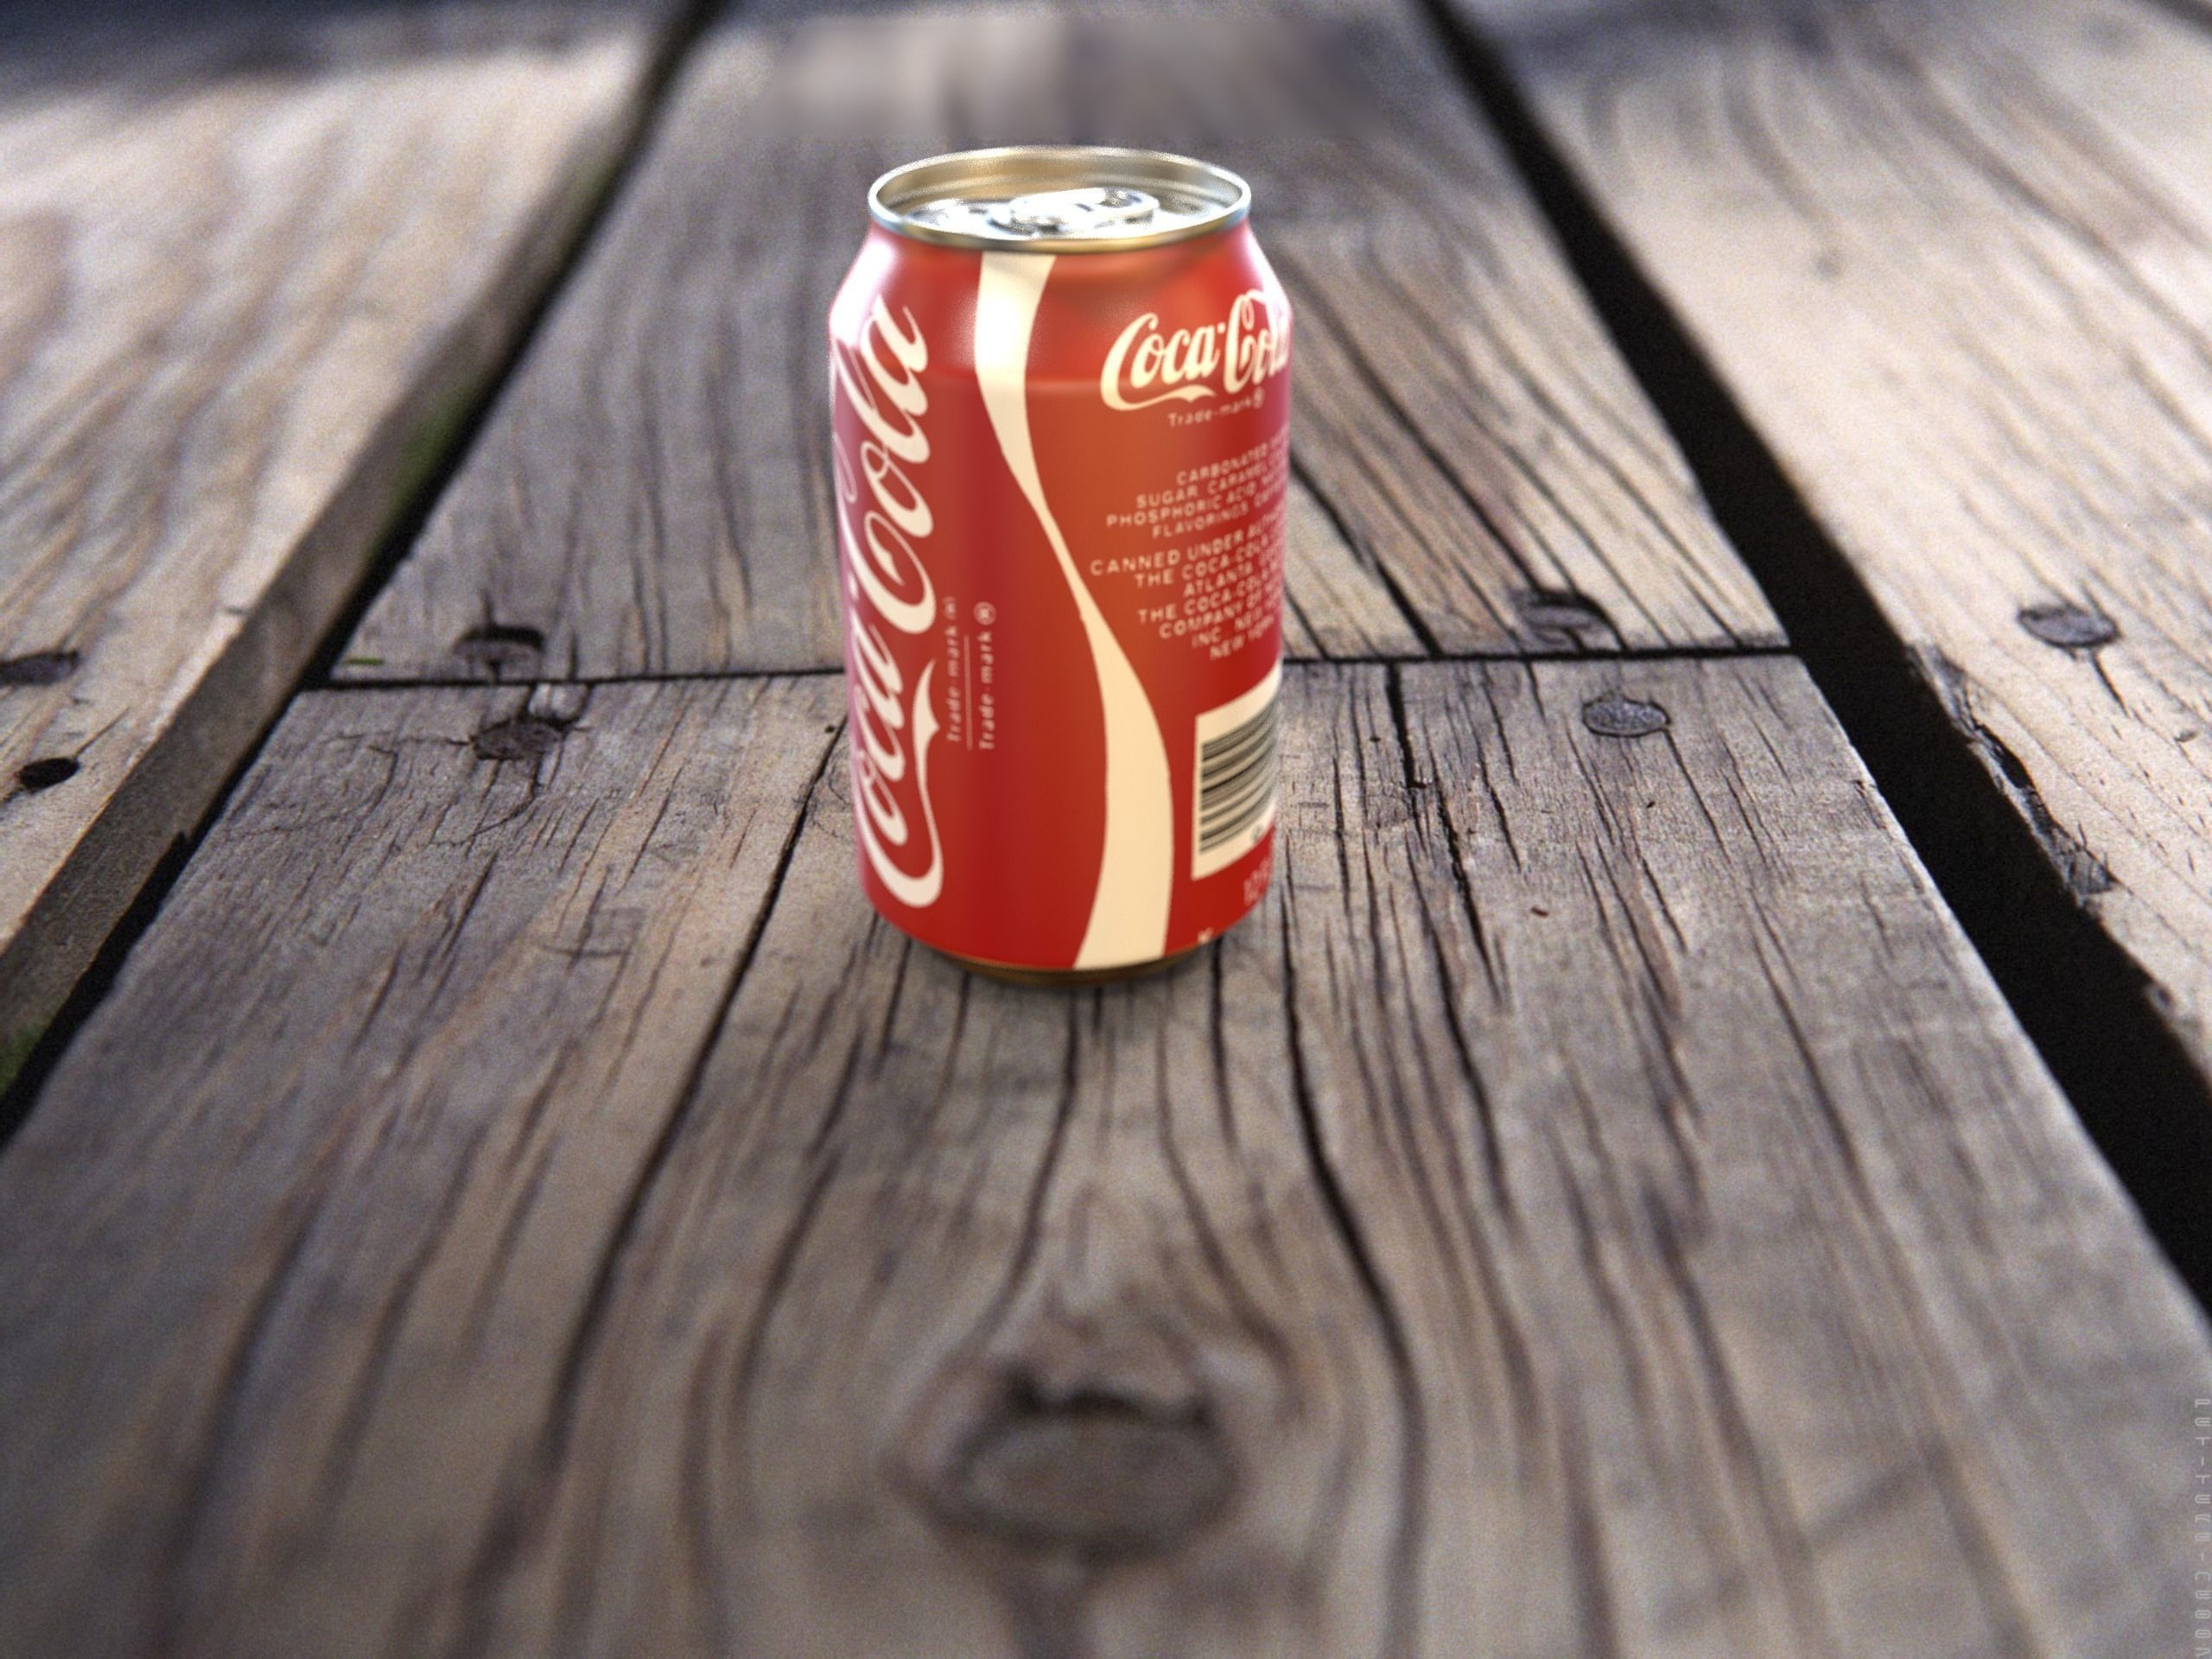coke: (819, 122, 1312, 997)
